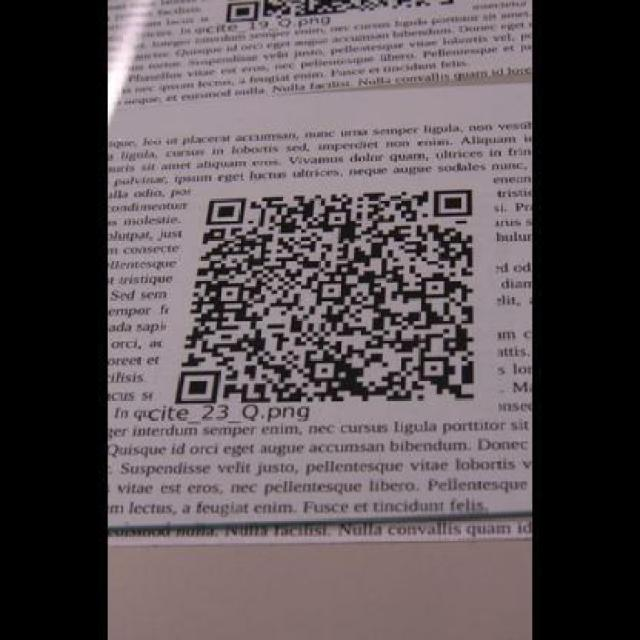QRCode: (166, 181, 480, 407)
